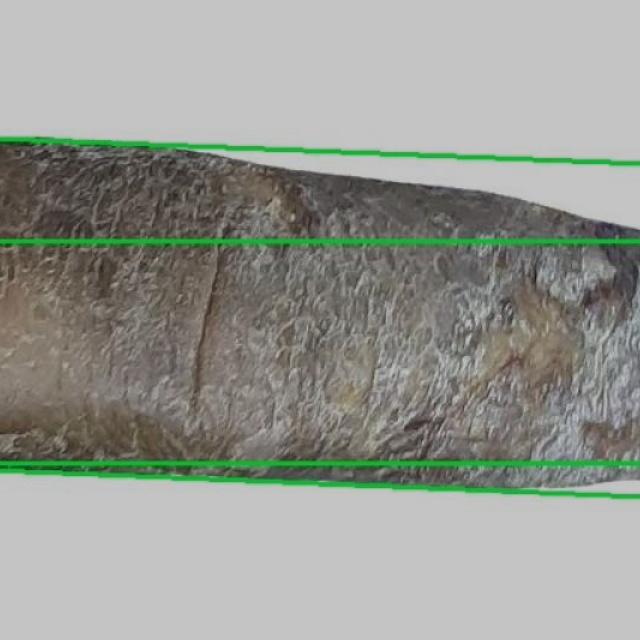Eczema: (0, 138, 639, 495), (0, 0, 639, 241), (0, 463, 639, 639)
